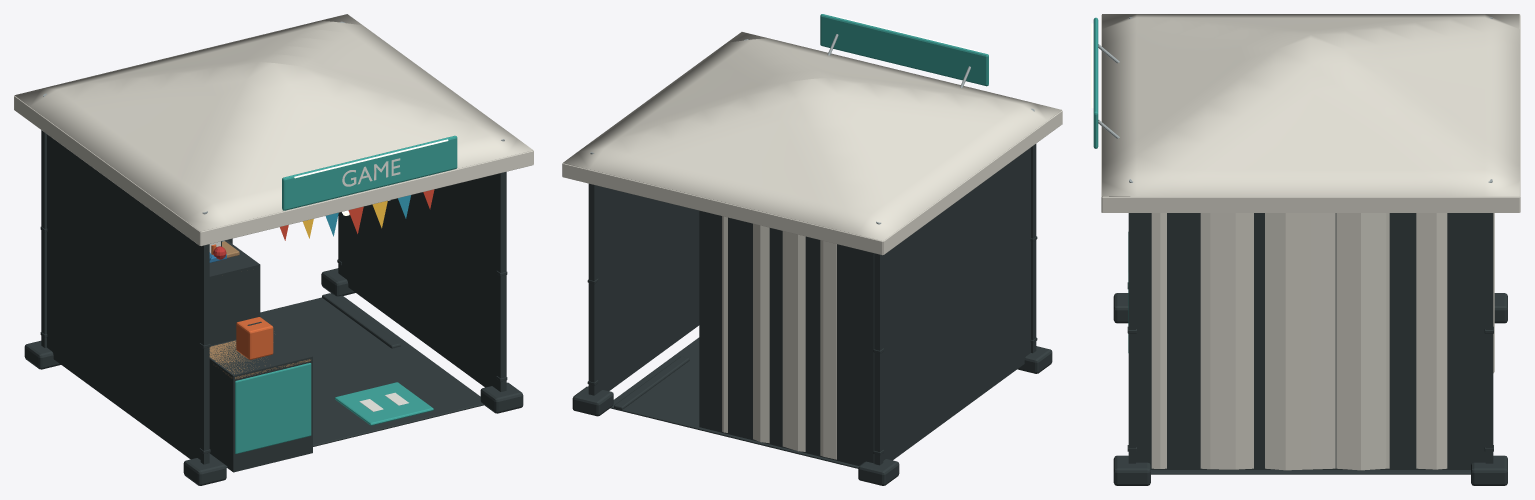
The model's file is SIMUS_Festival_Booth_Game.fbx.
3 renders of one model, left to right at view 1: azimuth 30°, elevation 25°; view 2: azimuth 150°, elevation 25°; view 3: azimuth 270°, elevation 25°, orthographic. The views are drawn at different scales.
Visible parts, largest first — view 1: FESTIVAL_BOOTH_CANOPY_FABRIC_Game, COL_Game_PANEL_LEFT, COL_Game_PANEL_RIGHT, FESTIVAL_BOOTH_FLOOR_MAT_MESH_Game, COL_Game_COUNTER, Game_Counter_Fascia, Main_Sign_Board_Game, Canopy_Hem_0_-1_Game, COL_Game_TABLE, FESTIVAL_BOOTH_WEIGHTS_BLOCKS_Game, Canopy_Hem_1_-1_Game, Game_StampBoard (+7 smaller); view 2: FESTIVAL_BOOTH_CANOPY_FABRIC_Game, COL_Game_PANEL_LEFT, COL_Game_PANEL_BACK, COL_Game_PANEL_RIGHT, FESTIVAL_BOOTH_PANEL_BACK_FABRIC_Game, Main_Sign_Board_Game, Canopy_Hem_0_1_Game, FESTIVAL_BOOTH_FLOOR_MAT_MESH_Game, Canopy_Hem_1_-1_Game, FESTIVAL_BOOTH_WEIGHTS_BLOCKS_Game, COL_Game_POST_-1.4_1.3, COL_Game_POST_1.4_1.3 (+2 smaller); view 3: FESTIVAL_BOOTH_CANOPY_FABRIC_Game, FESTIVAL_BOOTH_PANEL_RIGHT_FABRIC_Game, COL_Game_PANEL_RIGHT, Canopy_Hem_1_1_Game, FESTIVAL_BOOTH_WEIGHTS_BLOCKS_Game, COL_Game_POST_1.4_1.3, COL_Game_POST_1.4_-1.3, FESTIVAL_BOOTH_FLOOR_MAT_MESH_Game, Main_Sign_Board_Game.
Part boxes in pixels (x1,y1,x2,y2): FESTIVAL_BOOTH_CANOPY_FABRIC_Game: (14,14,533,231); COL_Game_PANEL_LEFT: (47,134,200,459); COL_Game_PANEL_RIGHT: (341,174,497,389); FESTIVAL_BOOTH_FLOOR_MAT_MESH_Game: (209,294,483,467); COL_Game_COUNTER: (209,330,312,472); Game_Counter_Fascia: (235,363,311,453); Main_Sign_Board_Game: (282,135,457,210); Canopy_Hem_0_-1_Game: (200,151,533,246); COL_Game_TABLE: (209,240,260,345); FESTIVAL_BOOTH_WEIGHTS_BLOCKS_Game: (24,268,523,485); Canopy_Hem_1_-1_Game: (14,96,200,245); Game_StampBoard: (335,382,433,425); FESTIVAL_BOOTH_CANOPY_FABRIC_Game: (563,32,1061,241); COL_Game_PANEL_LEFT: (883,147,1030,460); COL_Game_PANEL_BACK: (699,210,874,465); COL_Game_PANEL_RIGHT: (597,186,699,392); FESTIVAL_BOOTH_PANEL_BACK_FABRIC_Game: (722,216,836,459); Main_Sign_Board_Game: (820,14,988,86); Canopy_Hem_0_1_Game: (562,163,882,255); FESTIVAL_BOOTH_FLOOR_MAT_MESH_Game: (610,337,858,468); Canopy_Hem_1_-1_Game: (883,110,1062,254); FESTIVAL_BOOTH_WEIGHTS_BLOCKS_Game: (572,346,1052,485); COL_Game_POST_-1.4_1.3: (874,253,883,465); COL_Game_POST_1.4_1.3: (588,183,597,395); FESTIVAL_BOOTH_CANOPY_FABRIC_Game: (1102,14,1519,196); FESTIVAL_BOOTH_PANEL_RIGHT_FABRIC_Game: (1151,213,1447,470); COL_Game_PANEL_RIGHT: (1136,213,1485,469); Canopy_Hem_1_1_Game: (1102,196,1519,212); FESTIVAL_BOOTH_WEIGHTS_BLOCKS_Game: (1113,293,1507,485); COL_Game_POST_1.4_1.3: (1485,213,1493,463); COL_Game_POST_1.4_-1.3: (1128,213,1135,463); FESTIVAL_BOOTH_FLOOR_MAT_MESH_Game: (1151,470,1470,474); Main_Sign_Board_Game: (1093,17,1098,148).
Bounding box in the file's own units: 315 × 289 × 312.
